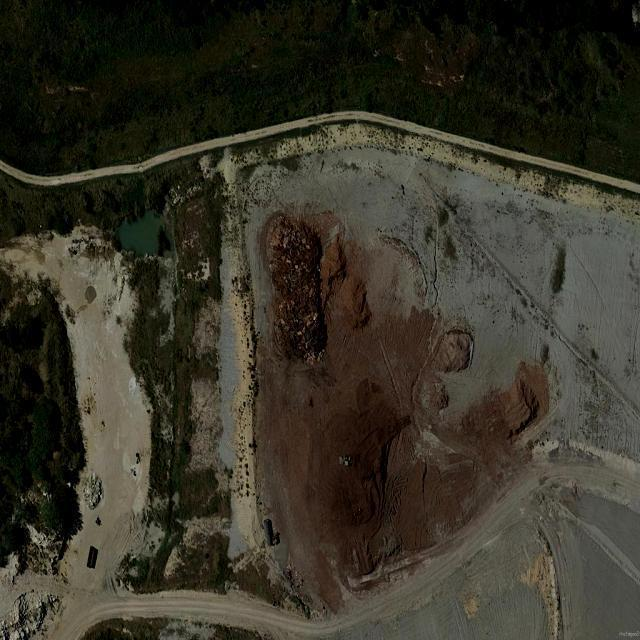dump_site: (265, 206, 328, 373)
